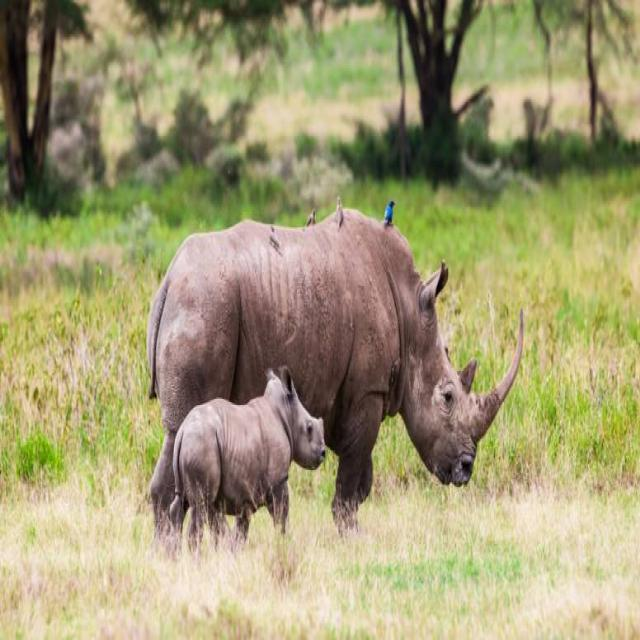rhinoceros: (147, 201, 524, 527), (170, 368, 325, 543)
